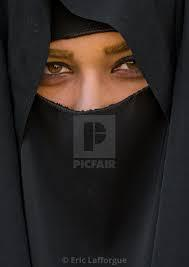No Mask: (9, 0, 164, 189)
